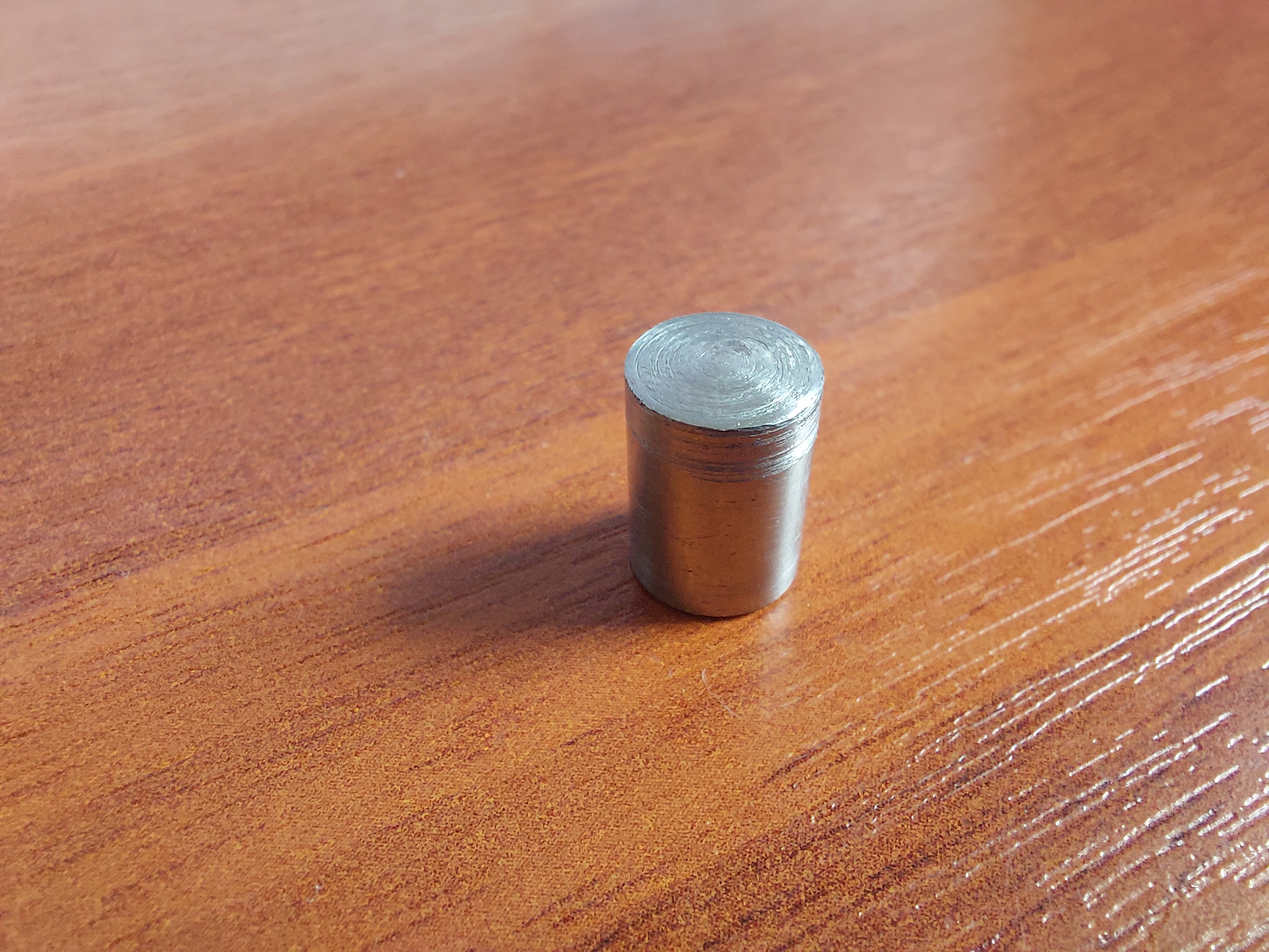tablet: (621, 313, 829, 621)
